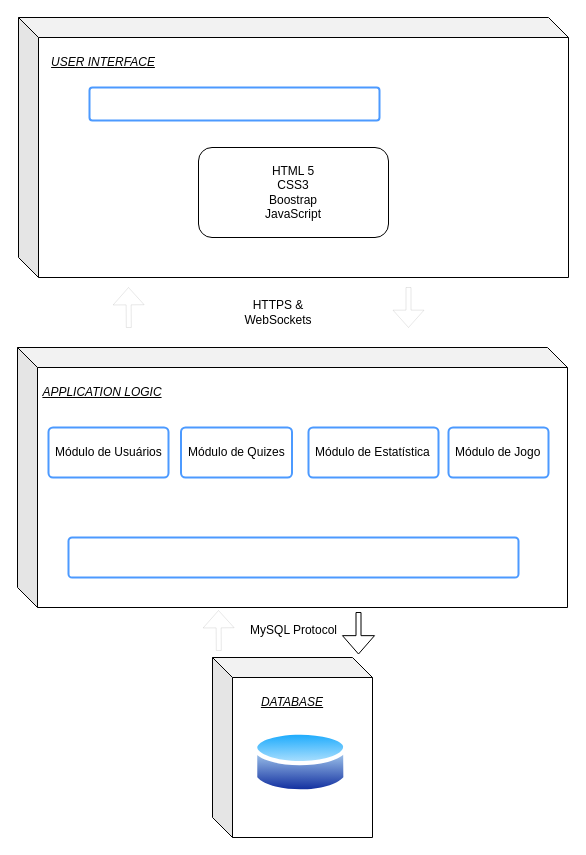
The diagram is 586 pixels wide and 855 high, and some of its shapes have lost their labels. The shapes that lost their labels are listed below. From the top down, each one's centre as x and y in pixels, then its label:
At (234,103): "QuizHub".
At (293,557): "Node.js Express JWT".
At (300,762): "MySQL".
